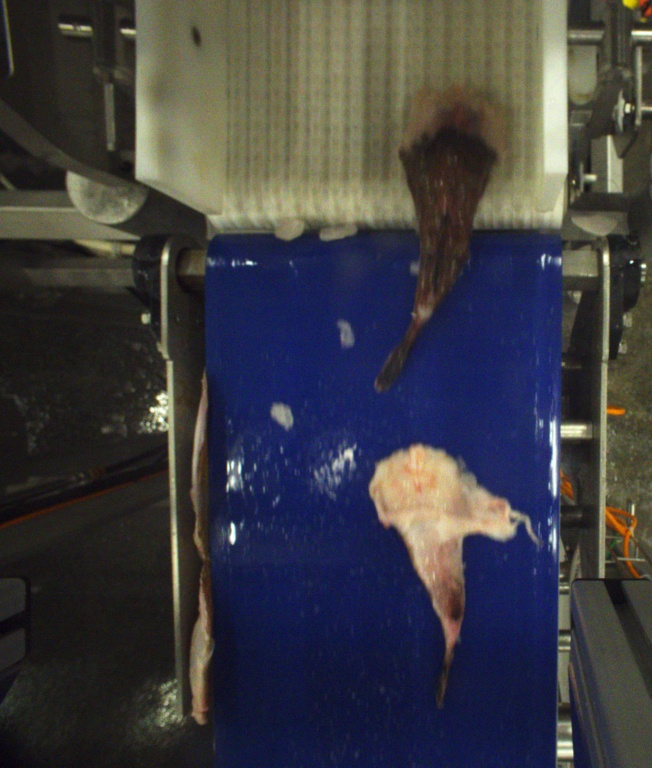ANF: (371, 440, 515, 708)
